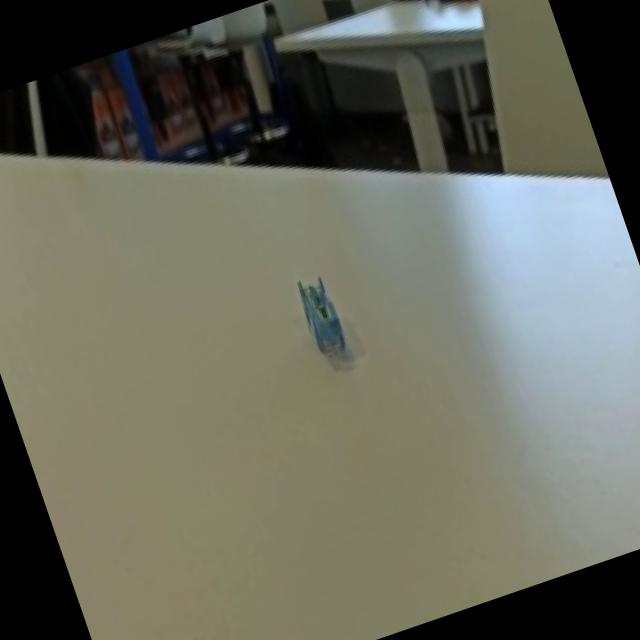3_NanoBug_Celeste: (247, 242, 388, 418)
